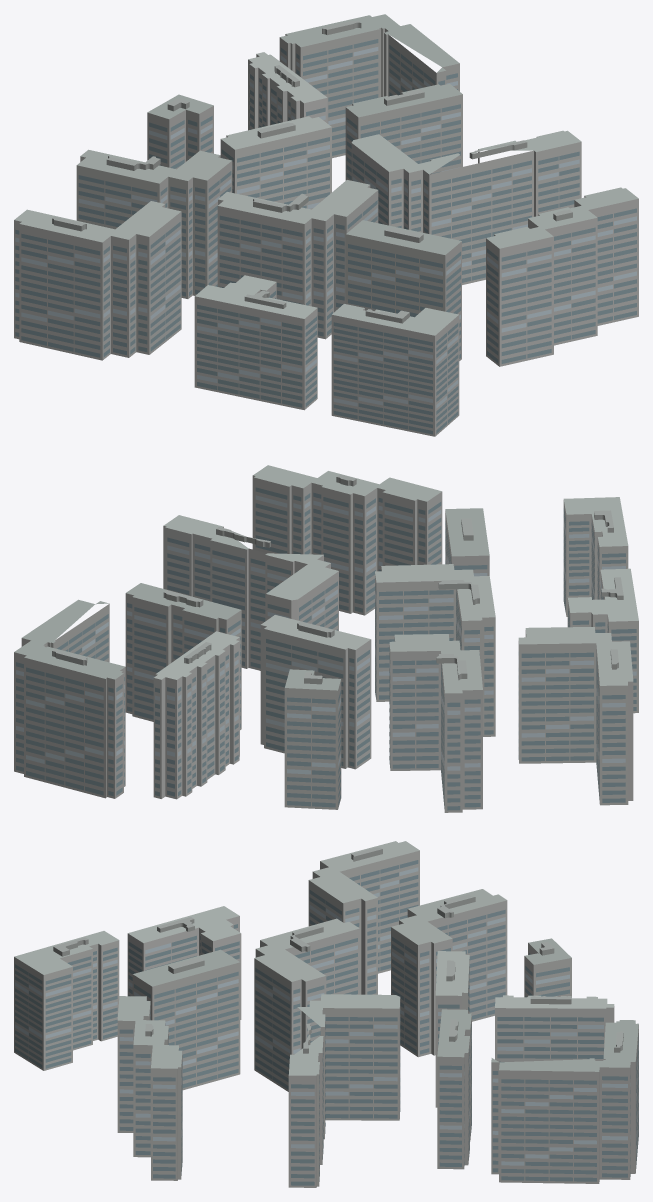
The model's file is apt-a13120002.glb.
3 renders of one model, top to bottom at view 1: azimuth 30°, elevation 25°; view 2: azimuth 150°, elevation 25°; view 3: azimuth 270°, elevation 25°, orthographic. The views are drawn at different scales.
Visible parts, largest first — view 1: apt-a13120002; view 2: apt-a13120002; view 3: apt-a13120002.
Boxes of the visible parts, x1,y1,x2,y2 form: apt-a13120002: [14, 14, 638, 436]; apt-a13120002: [14, 465, 638, 812]; apt-a13120002: [14, 841, 638, 1187].
Bounding box in the file's own units: 205 × 47.81 × 231.
